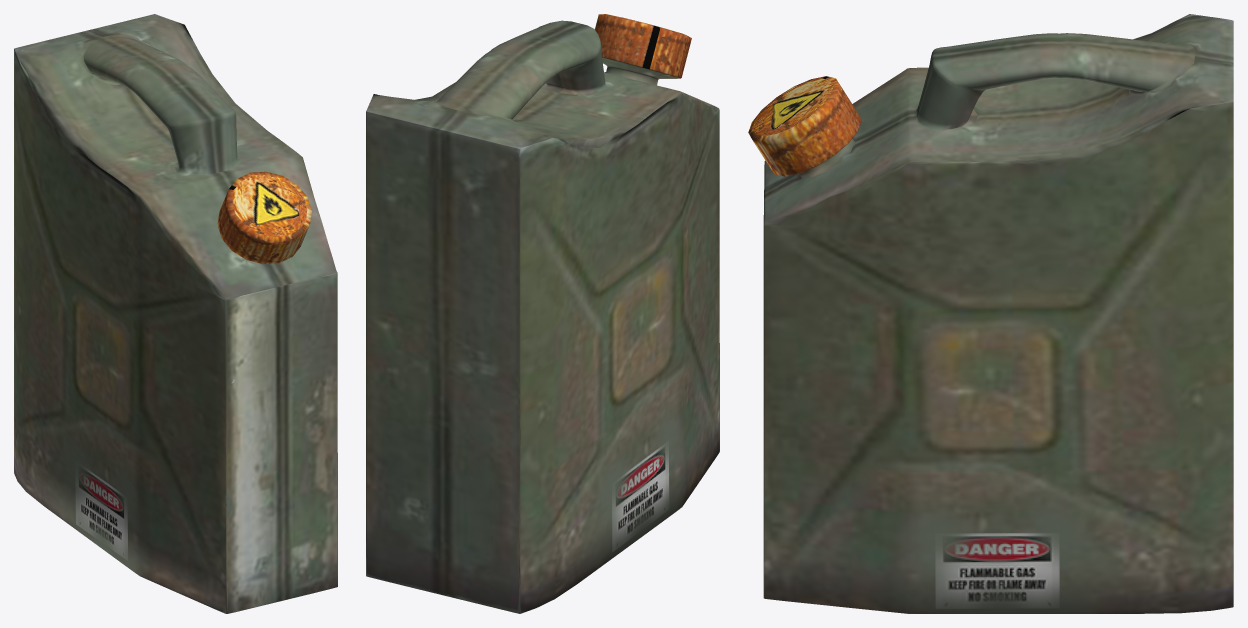
File: FuelCan.dae
3 views of the same model, side by side, from view 1: azimuth 30°, elevation 25°; view 2: azimuth 150°, elevation 25°; view 3: azimuth 270°, elevation 25° (orthographic). The views are drawn at different scales.
Parts seen in each view (by area): view 1: jerrycanfinished_pCylinder2; view 2: jerrycanfinished_pCylinder2; view 3: jerrycanfinished_pCylinder2.
Boxes of the visible parts, <box> form: jerrycanfinished_pCylinder2: <box>14,14,337,613</box>; jerrycanfinished_pCylinder2: <box>366,14,719,613</box>; jerrycanfinished_pCylinder2: <box>748,14,1233,613</box>.
Size of the model in its own units: 1.71 by 3.69 by 4.42.
